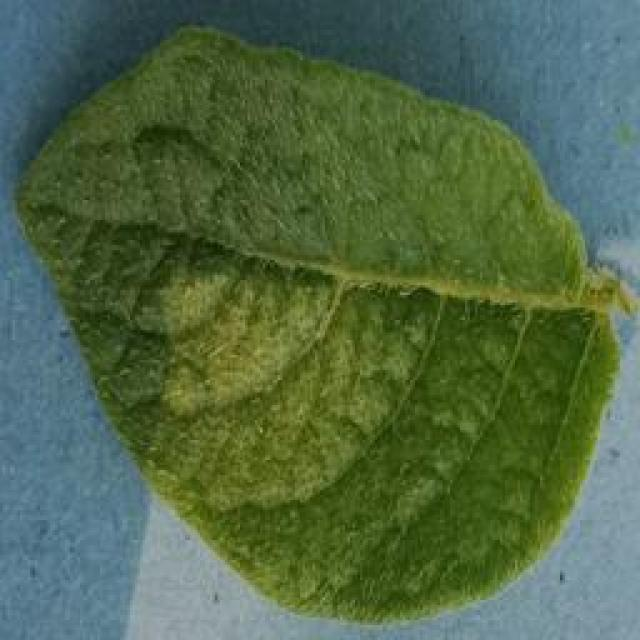Potato_Healthy: (10, 1, 636, 632)
